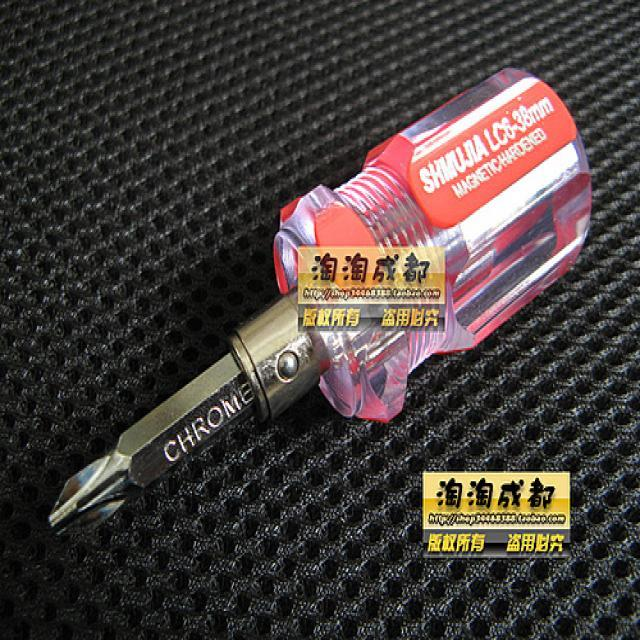screwdriver: (31, 51, 616, 544)
